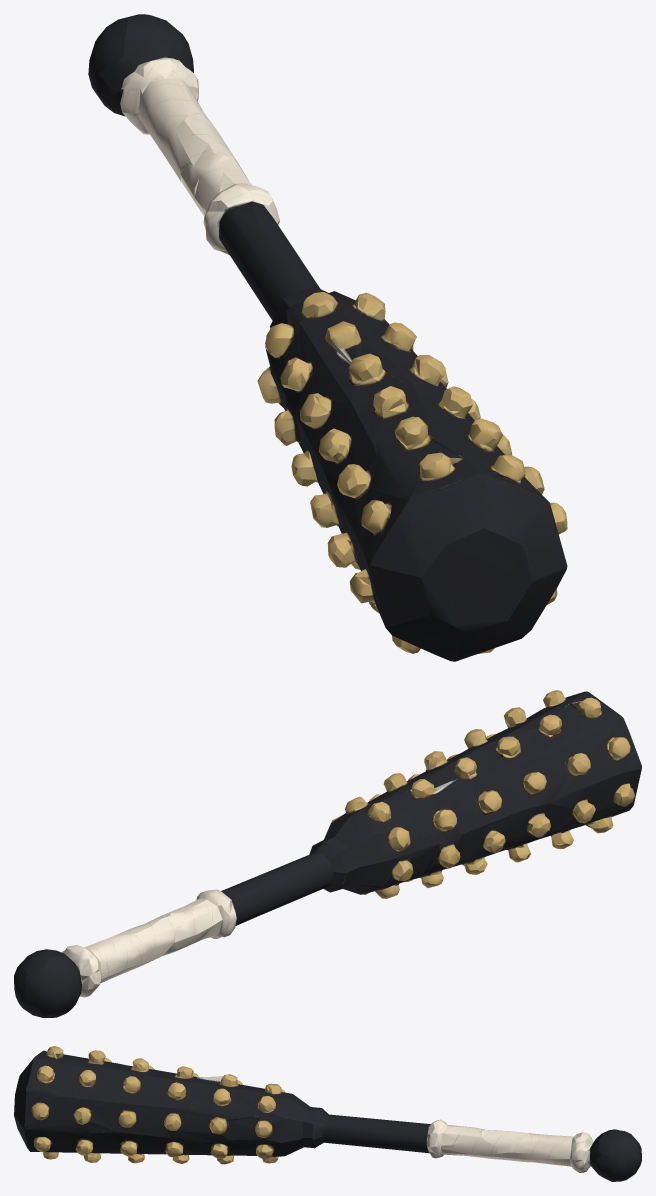
Rendered from club-grip.glb.
The picture shows the model from 3 angles, top to bottom: view 1: azimuth 30°, elevation 25°; view 2: azimuth 150°, elevation 25°; view 3: azimuth 270°, elevation 25°; orthographic projection. The views are drawn at different scales.
Visible parts, largest first — view 1: Mesh_0; view 2: Mesh_0; view 3: Mesh_0.
Boxes of the visible parts, x1=… form: Mesh_0: x1=88, y1=14, x2=567, y2=661; Mesh_0: x1=14, y1=690, x2=641, y2=1017; Mesh_0: x1=14, y1=1046, x2=641, y2=1181.
Bounding box in the file's own units: 0.4178 × 0.2117 × 1.18.
1 material, 1 textured.
